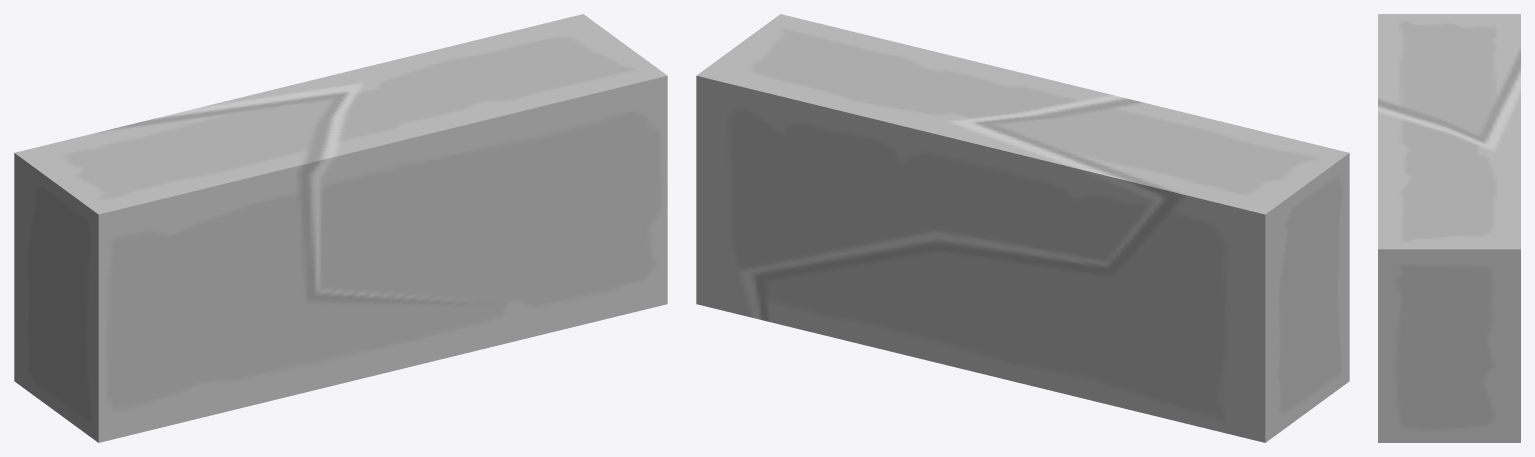
File: MarbleSlabBrick2.fbx
3 views of the same model, side by side, from view 1: azimuth 30°, elevation 25°; view 2: azimuth 150°, elevation 25°; view 3: azimuth 270°, elevation 25° (orthographic). The views are drawn at different scales.
Visible parts, largest first — view 1: MarbleSlabBrick2; view 2: MarbleSlabBrick2; view 3: MarbleSlabBrick2.
Boxes of the visible parts, x1,y1,x2,y2 form: MarbleSlabBrick2: (14,14,667,442); MarbleSlabBrick2: (696,14,1349,442); MarbleSlabBrick2: (1378,14,1520,442).
Bounding box in the file's own units: 224 × 85.75 × 57.36.
